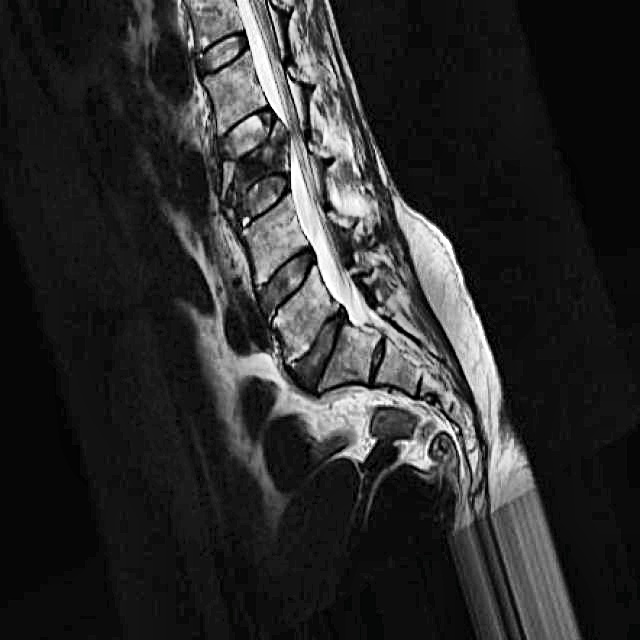Comminuted: (207, 99, 297, 234)
